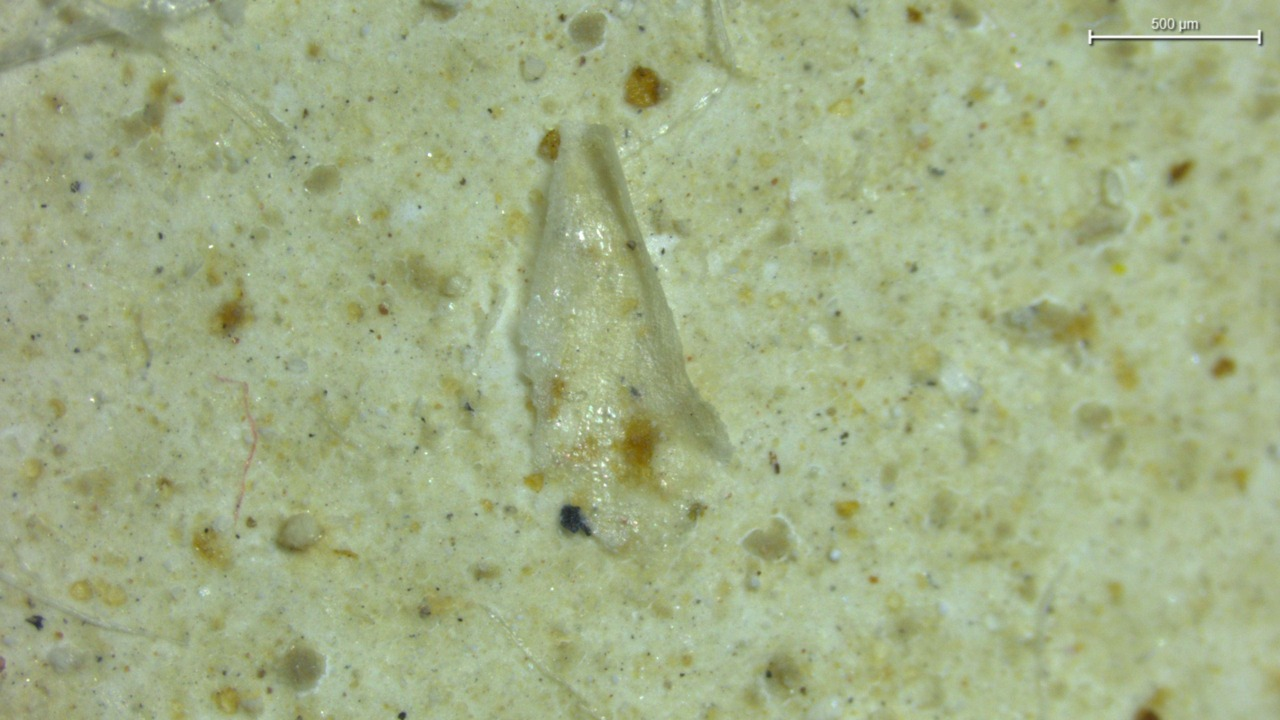microplastic_fragment: (516, 125, 733, 550), (275, 512, 322, 551)
